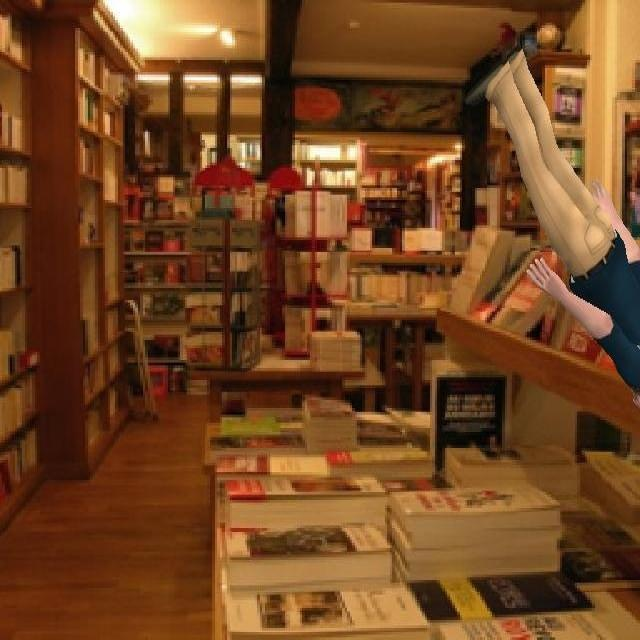obstacle: (459, 36, 640, 411)
